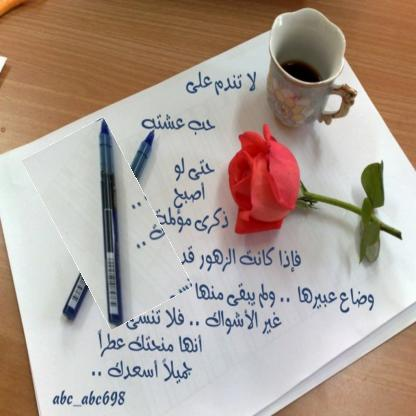Pen: (41, 123, 174, 325)
